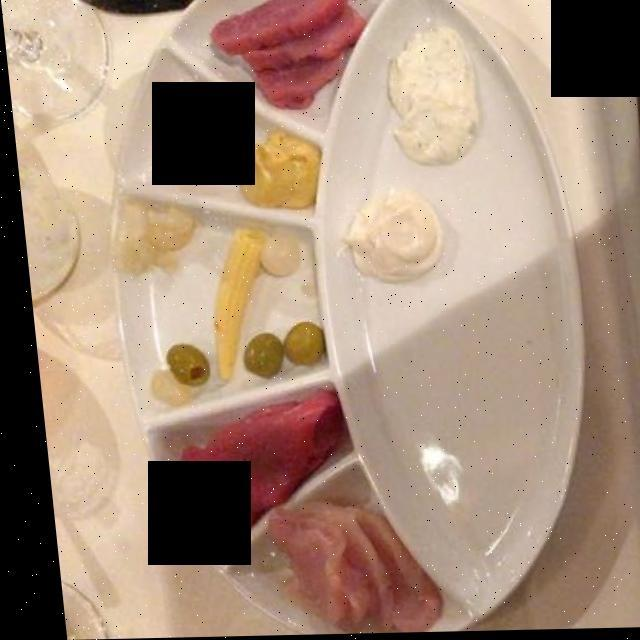corn: (202, 229, 250, 380)
mayonnaise: (172, 14, 479, 298)
onions: (101, 199, 299, 289)
pork: (205, 1, 364, 116)
